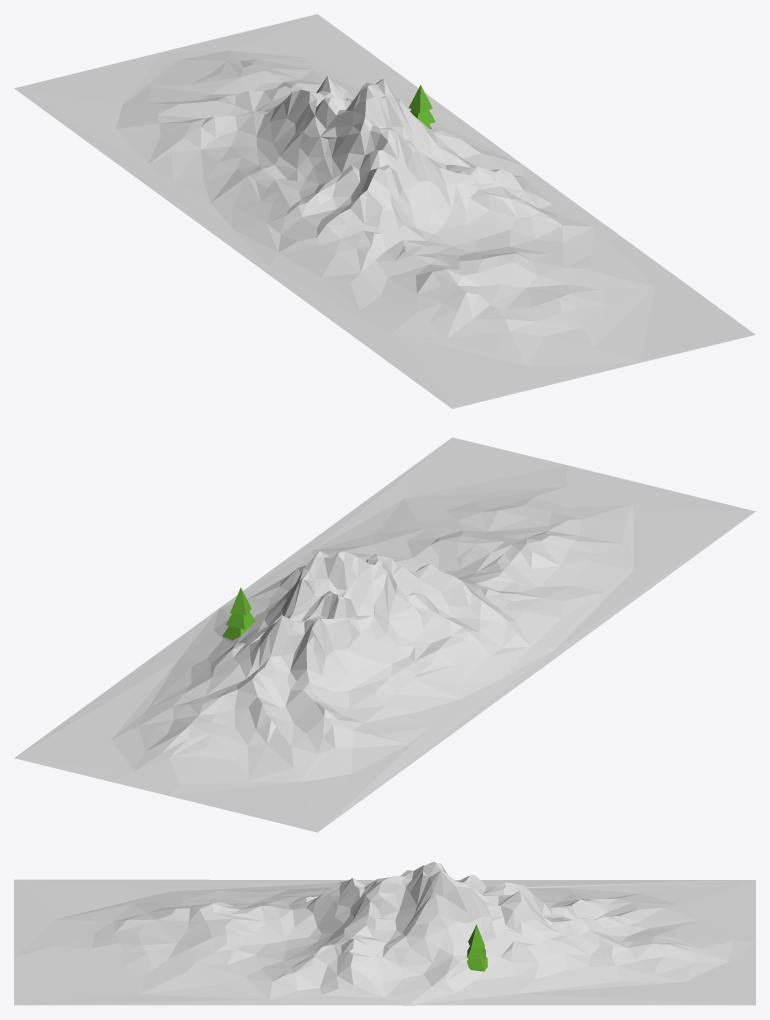
The model's file is Mountain1.fbx.
3 renders of one model, top to bottom at view 1: azimuth 30°, elevation 25°; view 2: azimuth 150°, elevation 25°; view 3: azimuth 270°, elevation 25°, orthographic. The views are drawn at different scales.
Parts seen in each view (by area): view 1: Landscape; view 2: Landscape, Cube; view 3: Landscape, Cube.
Part boxes in pixels (x1,y1,x2,y2): Landscape: (14, 14, 755, 408); Landscape: (14, 437, 755, 832); Cube: (222, 587, 255, 640); Landscape: (14, 861, 755, 1005); Cube: (467, 924, 487, 971).
Bounding box in the file's own units: 200 × 63.93 × 500.
Materials: 2 (1 with a texture image).
